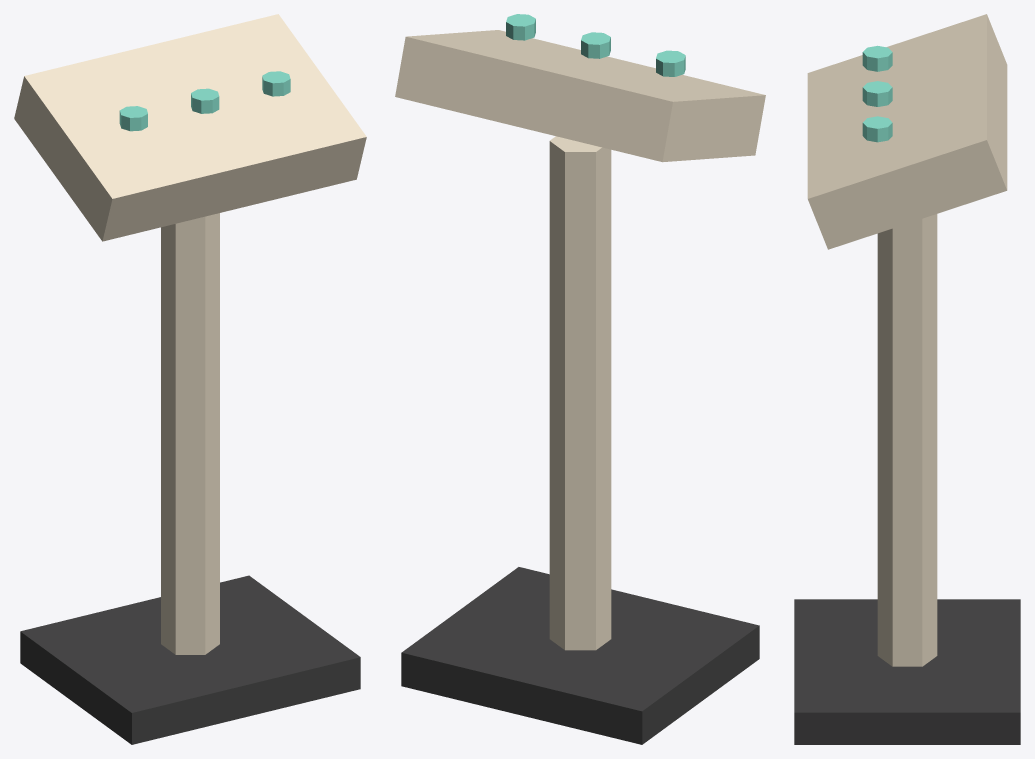
The picture shows the model from 3 angles, left to right: view 1: azimuth 30°, elevation 25°; view 2: azimuth 150°, elevation 25°; view 3: azimuth 270°, elevation 25°; orthographic projection. The views are drawn at different scales.
Visible parts, largest first — view 1: Control console, Foot, Stand, Control button.002, Control button.001, Control button; view 2: Foot, Stand, Control console, Control button.001, Control button.002, Control button; view 3: Control console, Foot, Stand, Control button, Control button.002, Control button.001.
Boxes of the visible parts, bbox=[...] form: Control console: bbox=[14, 14, 366, 241]; Foot: bbox=[20, 575, 360, 744]; Stand: bbox=[161, 213, 219, 654]; Control button.002: bbox=[262, 71, 290, 96]; Control button.001: bbox=[191, 88, 219, 113]; Control button: bbox=[119, 106, 147, 131]; Foot: bbox=[401, 567, 759, 744]; Stand: bbox=[549, 136, 611, 650]; Control console: bbox=[395, 30, 765, 162]; Control button.001: bbox=[581, 32, 610, 58]; Control button.002: bbox=[506, 14, 535, 40]; Control button: bbox=[656, 50, 685, 76]; Control console: bbox=[807, 14, 1007, 249]; Foot: bbox=[794, 599, 1020, 744]; Stand: bbox=[877, 214, 937, 666]; Control button: bbox=[862, 45, 892, 71]; Control button.002: bbox=[862, 116, 892, 142]; Control button.001: bbox=[862, 81, 892, 106].
Size of the model in its own units: 50 by 113 by 38.
